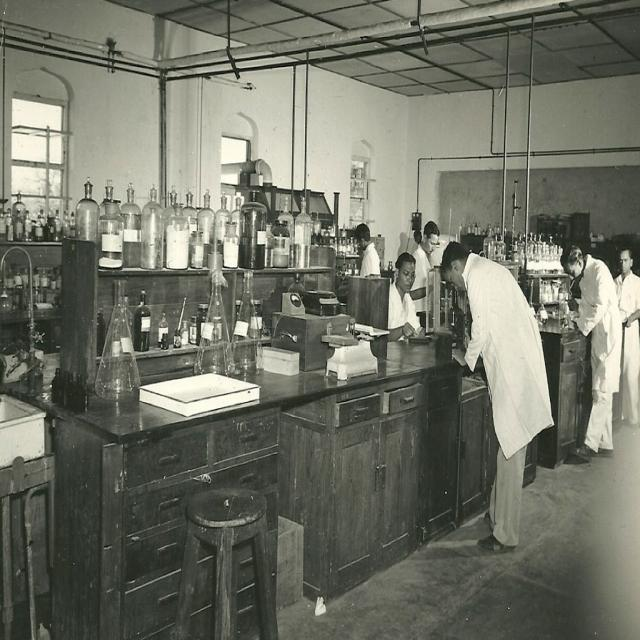Person: (560, 240, 621, 466), (408, 223, 442, 326), (354, 220, 382, 277)
